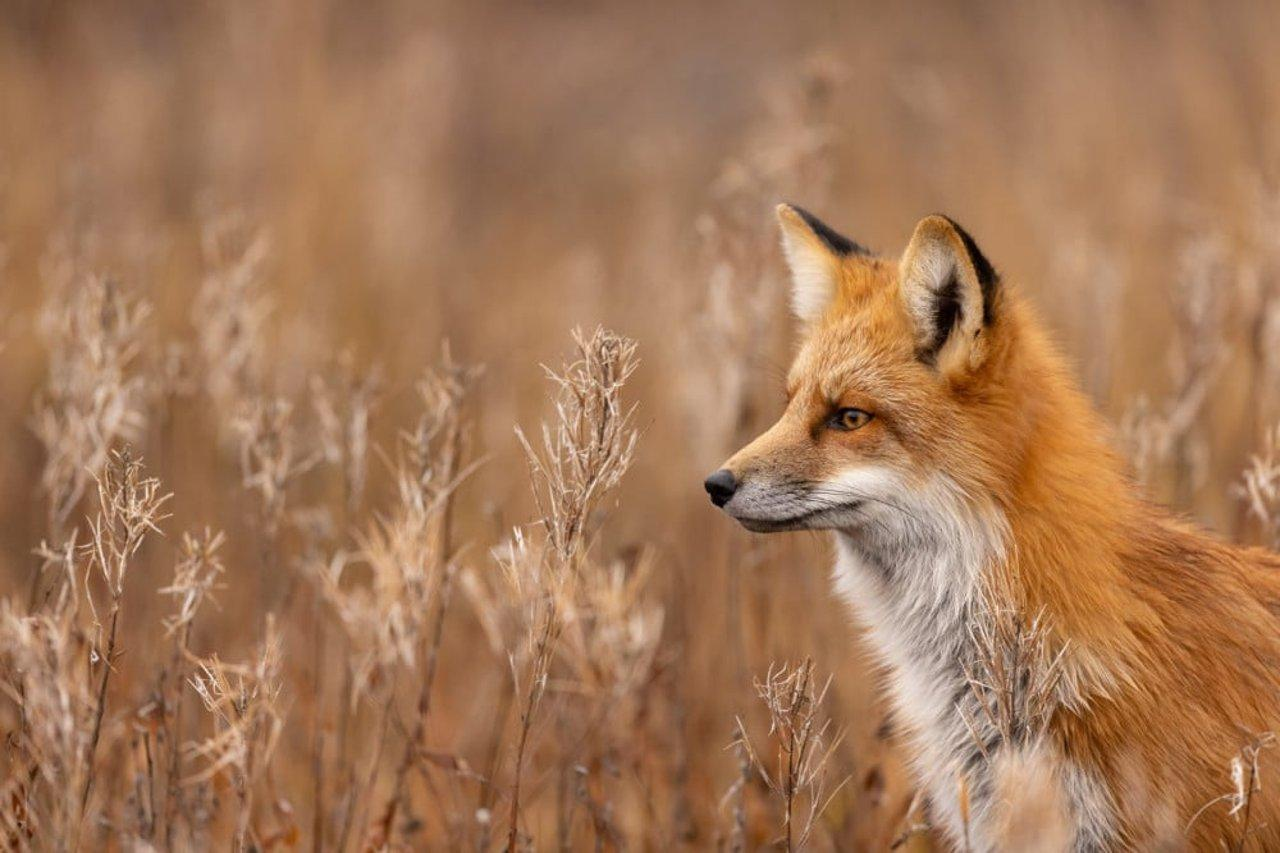fox: (693, 190, 1280, 853)
